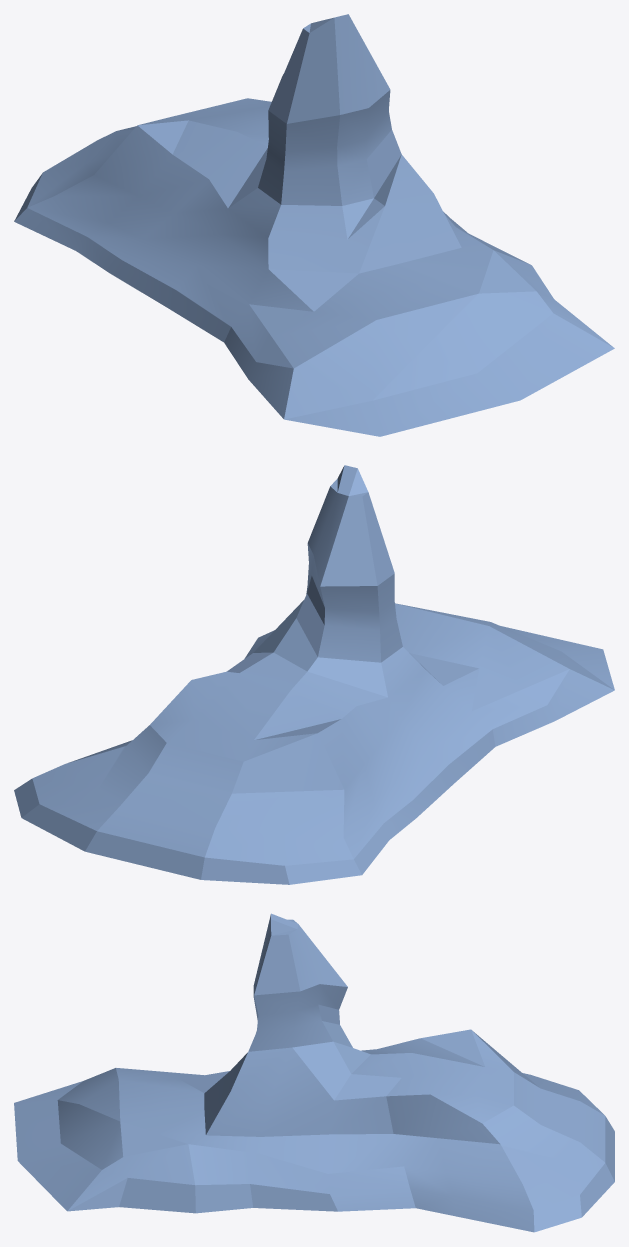
The model's file is songvrRockMedD.FBX.
The picture shows the model from 3 angles, top to bottom: view 1: azimuth 30°, elevation 25°; view 2: azimuth 150°, elevation 25°; view 3: azimuth 270°, elevation 25°; orthographic projection. The views are drawn at different scales.
Visible parts, largest first — view 1: songvrRockMedD; view 2: songvrRockMedD; view 3: songvrRockMedD.
Part boxes in pixels (<box>): songvrRockMedD: <box>14,14,614,436</box>; songvrRockMedD: <box>14,465,614,884</box>; songvrRockMedD: <box>14,913,614,1232</box>.
Bounding box in the file's own units: 7.91 × 5.68 × 13.24.
